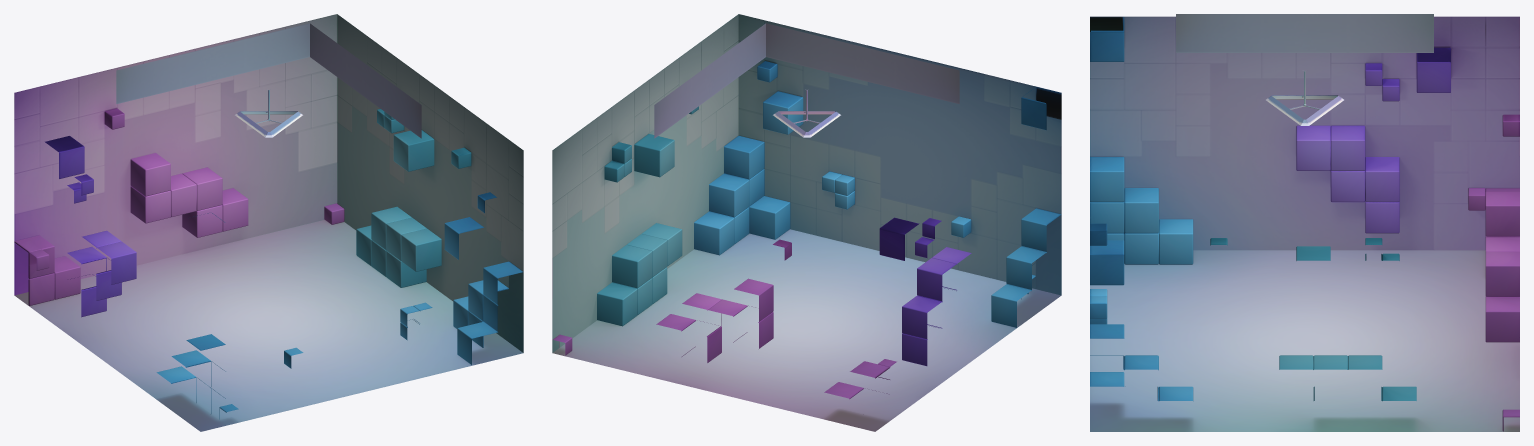
The model's file is cube-room.gltf.
3 views of the same model, side by side, from view 1: azimuth 30°, elevation 25°; view 2: azimuth 150°, elevation 25°; view 3: azimuth 270°, elevation 25° (orthographic). The views are drawn at different scales.
Visible parts, largest first — view 1: CubeRoom_GEO; view 2: CubeRoom_GEO; view 3: CubeRoom_GEO.
Boxes of the visible parts, x1,y1,x2,y2 form: CubeRoom_GEO: (14, 14, 523, 431); CubeRoom_GEO: (552, 14, 1061, 431); CubeRoom_GEO: (1090, 14, 1519, 431).
Bounding box in the file's own units: 10 × 7 × 10.
Materials: 1 (1 with a texture image).
